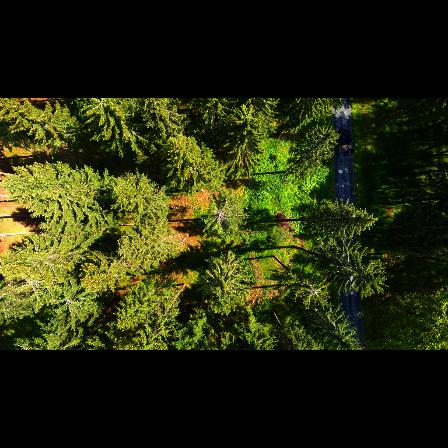Sick: (204, 199, 237, 233), (301, 279, 326, 308)
